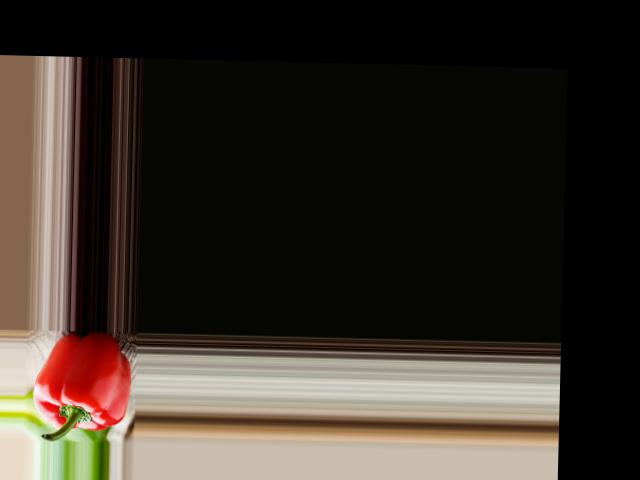bell_pepper: (29, 328, 130, 440)
